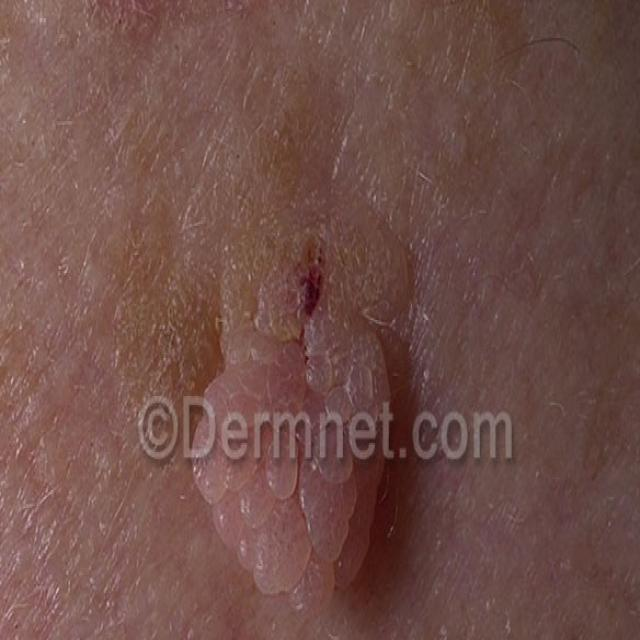Warts: (176, 156, 430, 610)
